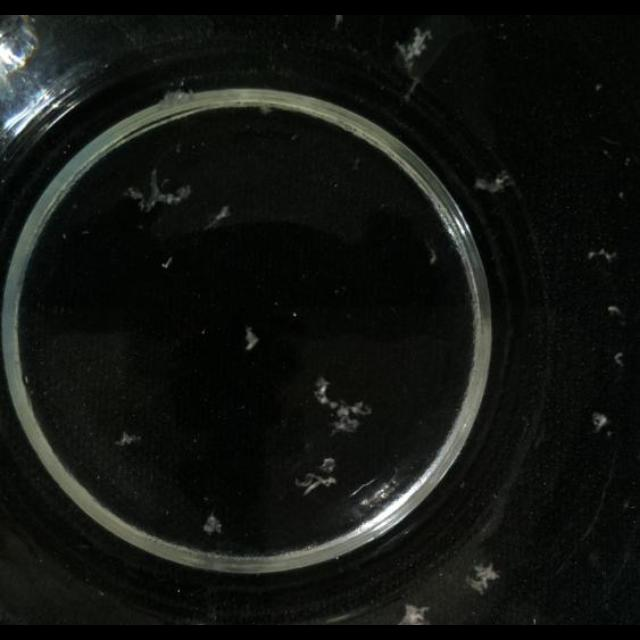Fibre: (312, 374, 373, 434), (129, 168, 191, 210), (395, 26, 433, 74), (295, 458, 339, 496), (473, 166, 515, 198), (466, 563, 502, 595), (398, 604, 430, 626), (204, 205, 232, 229), (243, 328, 259, 350), (162, 257, 172, 269)
microbeads: (587, 248, 617, 264), (113, 431, 141, 447), (202, 513, 222, 535), (590, 412, 610, 433), (608, 306, 622, 318), (614, 352, 626, 366), (592, 81, 604, 95)
